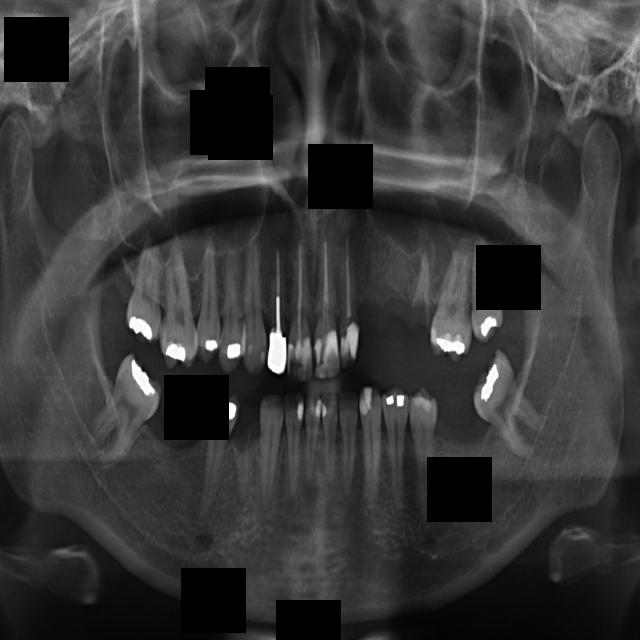Amalgam filling: (118, 226, 171, 351)
Anthogyr Implant: (405, 382, 440, 526)
Bicon Implant: (379, 384, 409, 520)
BioHorizons Implant: (358, 384, 385, 516)
BioLife Implant: (338, 389, 359, 500)
Biomet 3i Implant: (321, 391, 339, 492)
Blue Sky Bio Implant: (301, 388, 322, 485)
Camlog Implant: (284, 391, 307, 500)
Caries: (339, 210, 361, 370)
Composite filling: (259, 391, 285, 515)
Cowellmedi Implant: (230, 426, 251, 511)
Crown: (174, 385, 245, 527)
DENTSPLY Implant: (155, 232, 197, 372)
Dentium Implant: (74, 345, 177, 481)
Euroteknika Implant: (192, 226, 231, 368)
Filling: (217, 227, 243, 376)
Frontier Implant: (241, 211, 270, 377)
Implant: (287, 229, 316, 383)
Implant Direct: (266, 231, 292, 377)
Keystone Dental Implant: (312, 218, 340, 381)
Mandible: (409, 245, 429, 324)
Megagen Implant: (427, 238, 474, 365)
Neodent Implant: (470, 236, 506, 345)
Neoss Implant: (448, 342, 565, 477)
